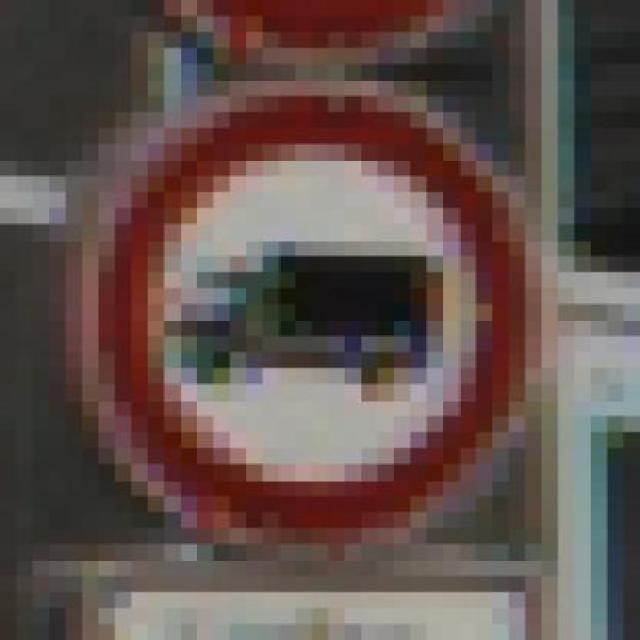Truck traffic is prohibited: (33, 64, 575, 576)
